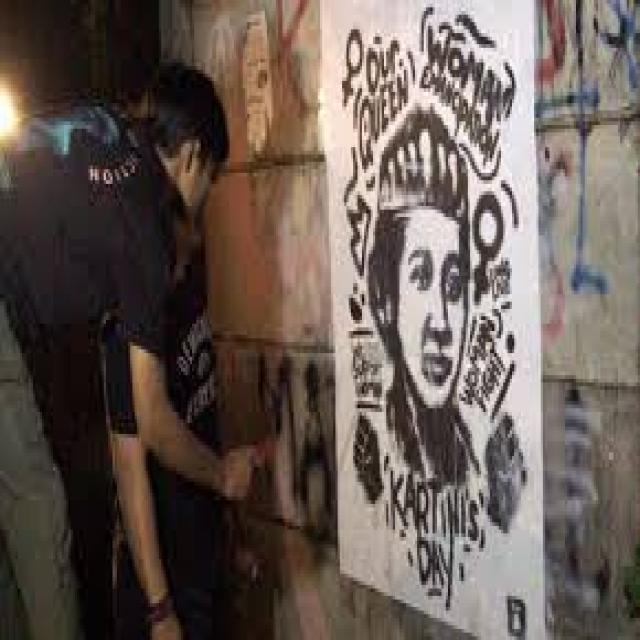-: (342, 6, 530, 632), (534, 3, 640, 316), (251, 350, 334, 522), (554, 381, 610, 614)
